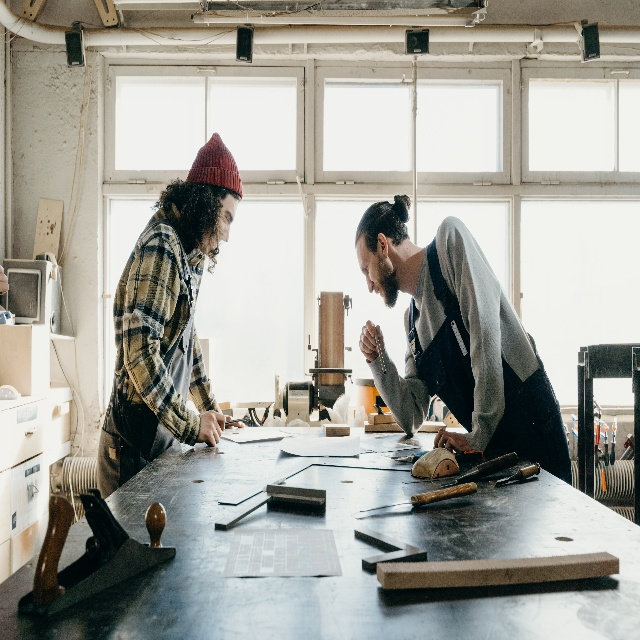Sin_guantes: (357, 320, 385, 361), (198, 410, 226, 448), (432, 427, 471, 454), (225, 413, 242, 428)
